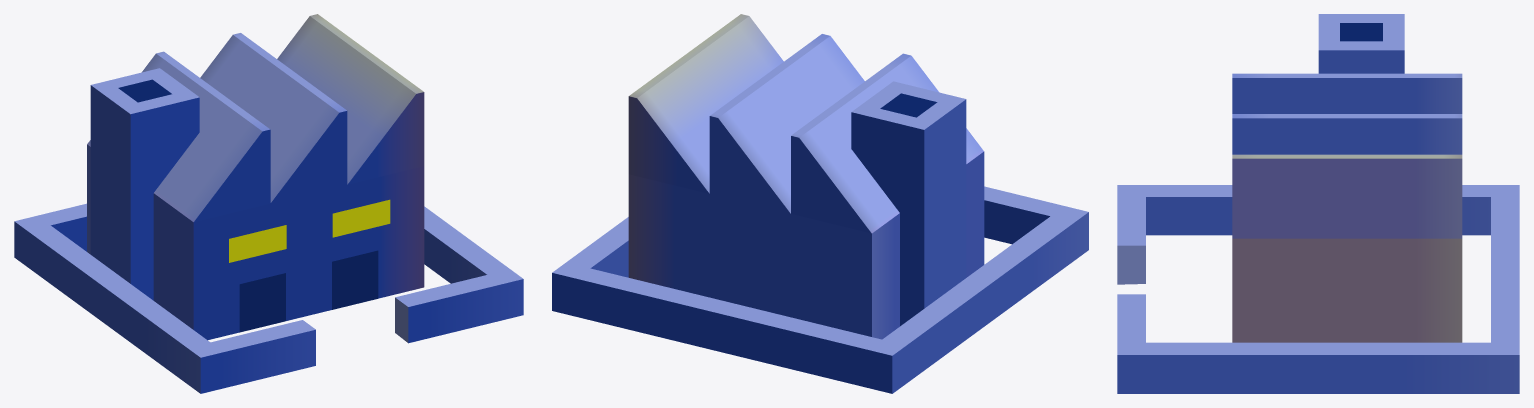
The model's file is Factory.CobaltIce.glb.
The picture shows the model from 3 angles, left to right: view 1: azimuth 30°, elevation 25°; view 2: azimuth 150°, elevation 25°; view 3: azimuth 270°, elevation 25°; orthographic projection. The views are drawn at different scales.
Visible parts, largest first — view 1: Factory.CobaltIce; view 2: Factory.CobaltIce; view 3: Factory.CobaltIce.
Part boxes in pixels (left/top/right/bottom): Factory.CobaltIce: left=14, top=14, right=523, bottom=393; Factory.CobaltIce: left=552, top=14, right=1088, bottom=393; Factory.CobaltIce: left=1117, top=14, right=1519, bottom=393.
Size of the model in its own units: 2.8 by 1.71 by 2.8.
Materials: 2 (1 with a texture image).
